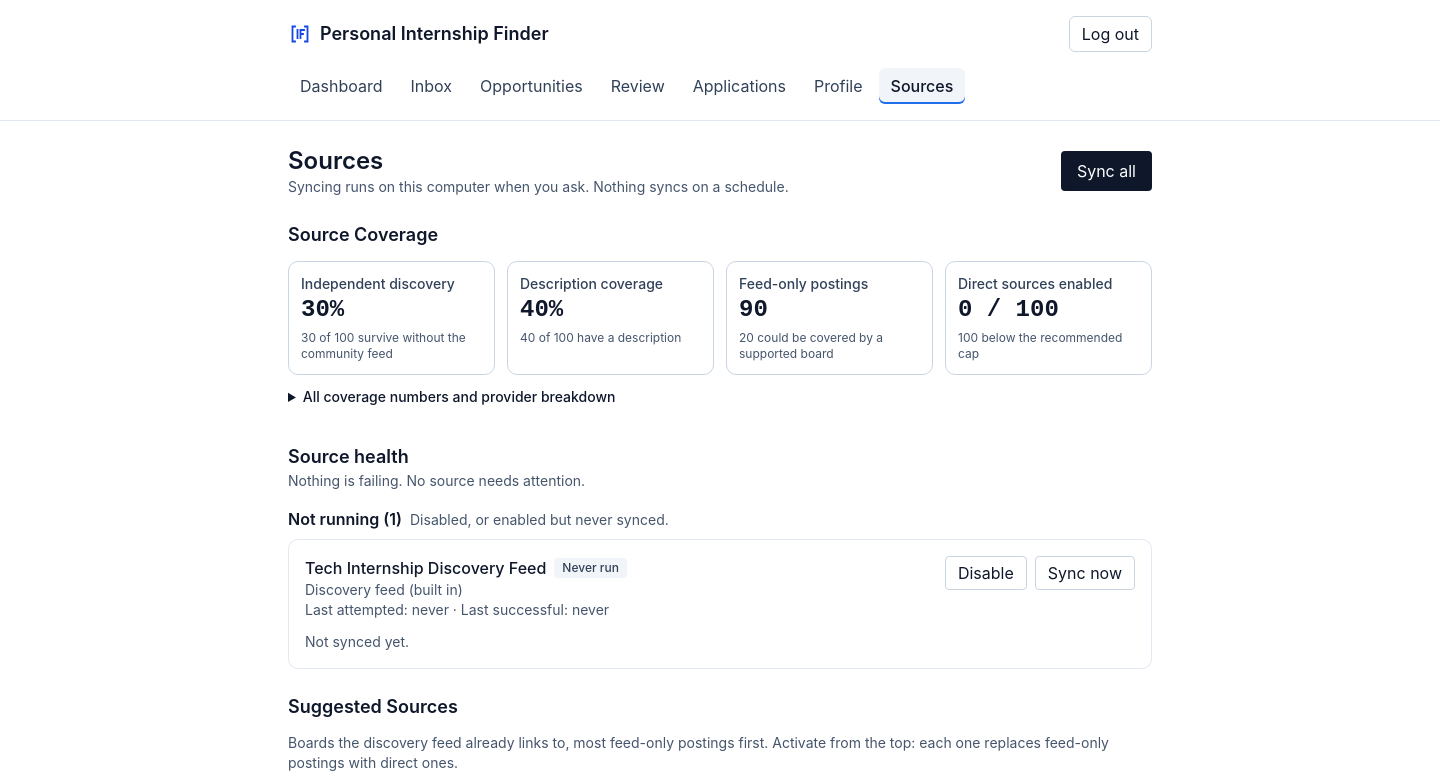
Test: sources page › syncs one source with the CSRF header and shows the result
Click the button with aria-label "Sync Tech Internship Discovery Feed now". click: (1085, 573)
box: [1035,556,1135,590]
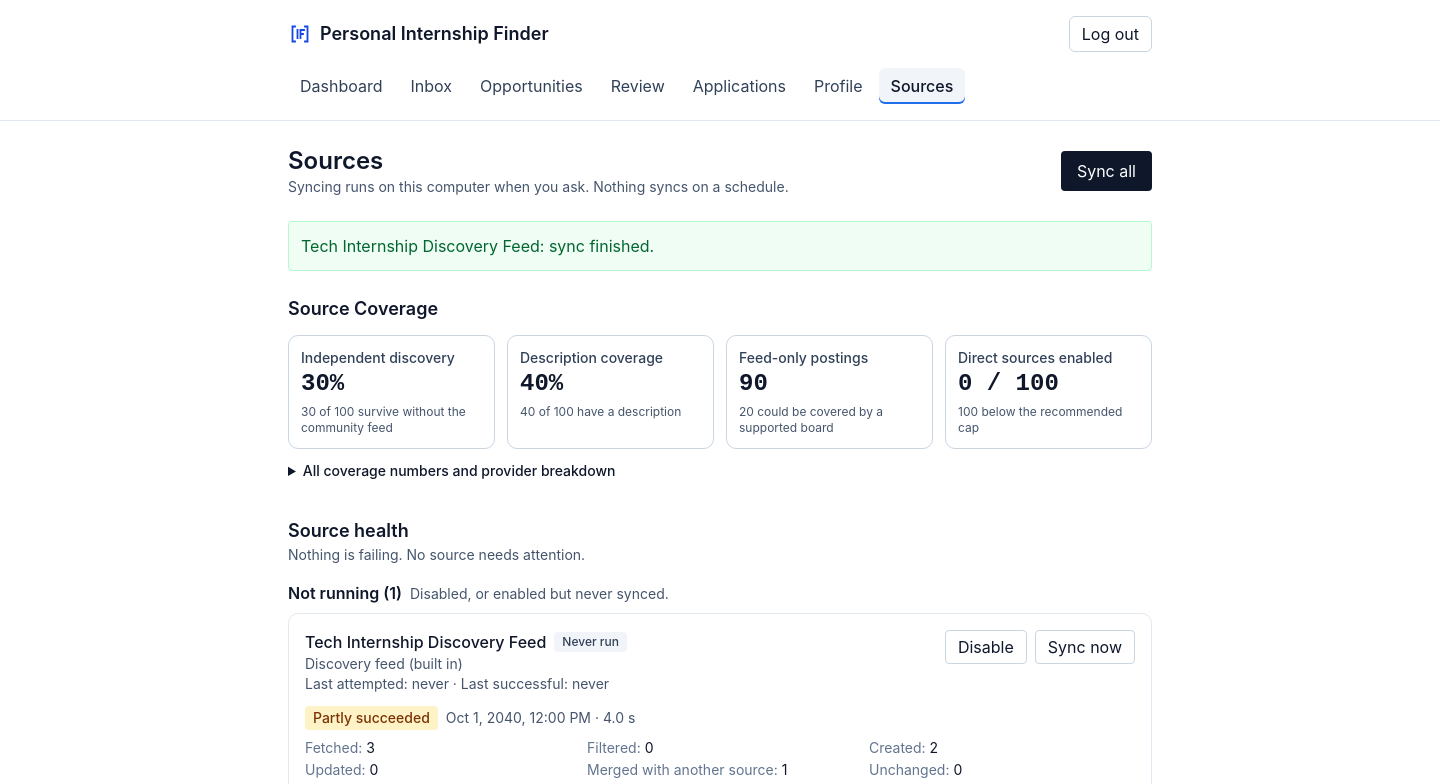
Expected: the text "Partly succeeded" is shown, [305,706,438,730]
